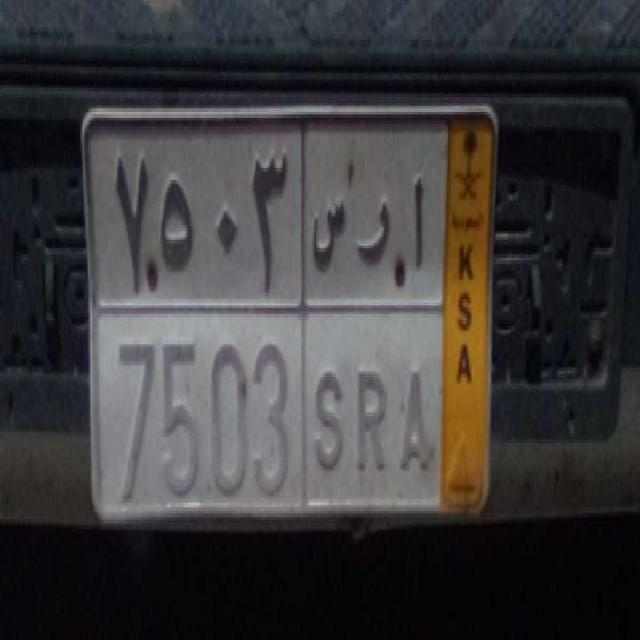license_plate: (92, 304, 440, 513)
